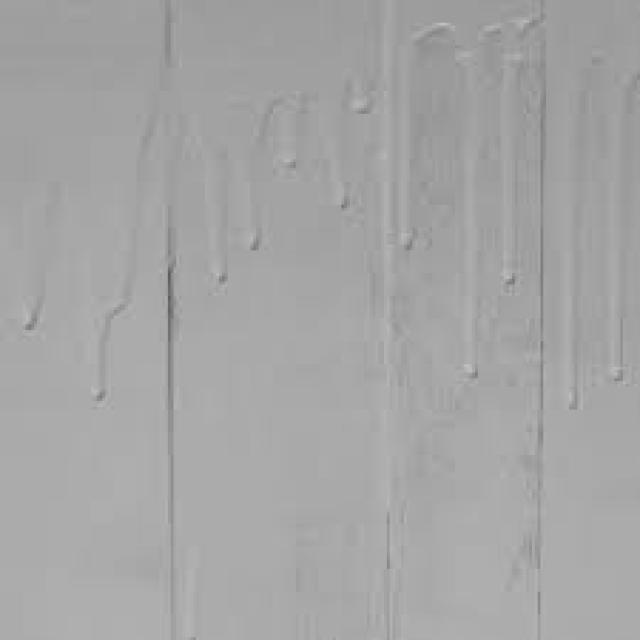paint drips: (0, 7, 640, 422)
